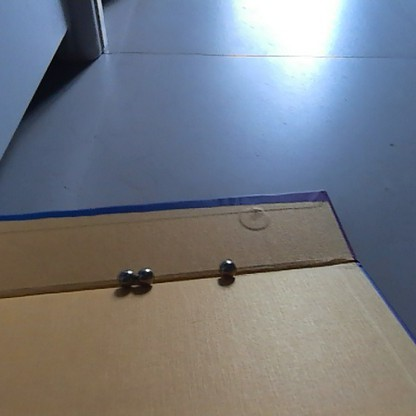ironball: (133, 264, 158, 288), (216, 254, 236, 279), (116, 265, 136, 289)
